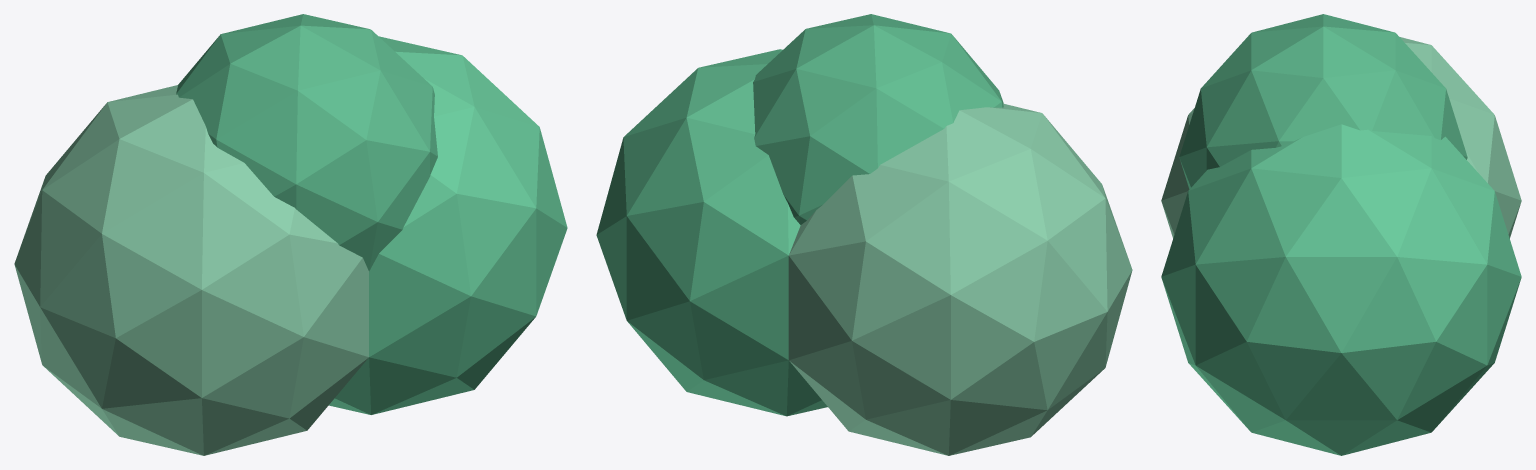
Rendered from tree-bush.glb.
3 views of the same model, side by side, from view 1: azimuth 30°, elevation 25°; view 2: azimuth 150°, elevation 25°; view 3: azimuth 270°, elevation 25° (orthographic). The views are drawn at different scales.
Visible parts, largest first — view 1: world; view 2: world; view 3: world.
Part boxes in pixels (x1=…): world: x1=14, y1=14, x2=567, y2=455; world: x1=596, y1=14, x2=1132, y2=455; world: x1=1161, y1=14, x2=1521, y2=455.
Bounding box in the file's own units: 3 × 2.3 × 2.
